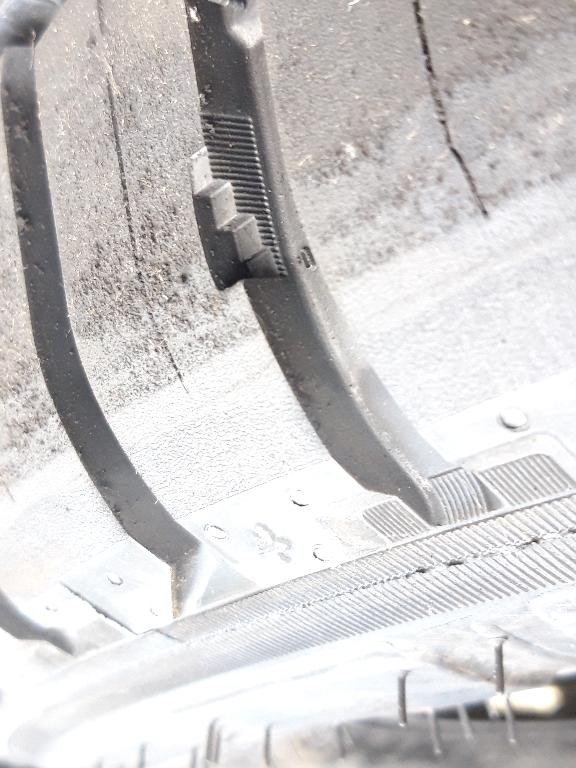temoin:75: (182, 141, 299, 302)
